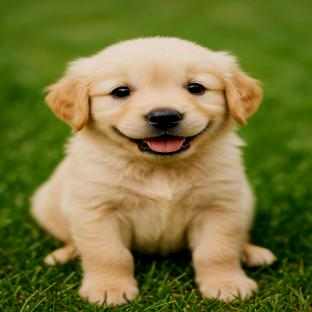Animal: (31, 37, 276, 306)
